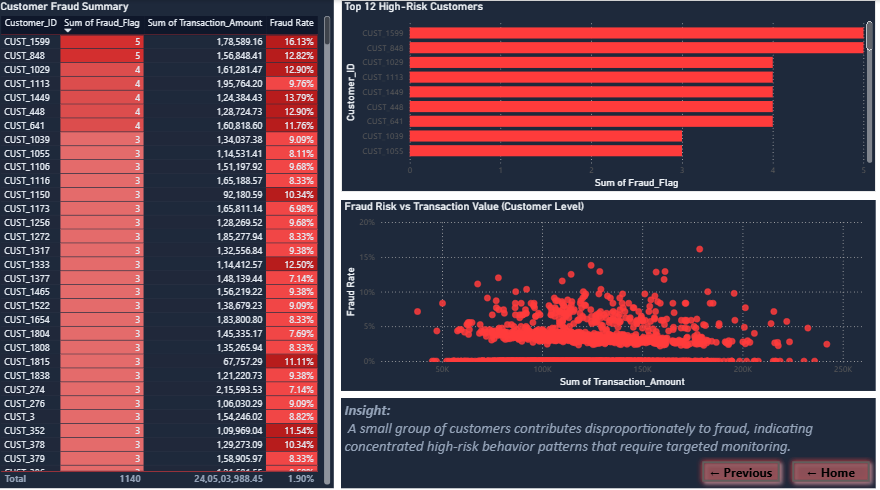

What the dashboard file says about the page in this screenshot:
{"tool":"powerbi","page":{"name":"Page 3","canvas":[1280,720],"ordinal":3},"visuals":[{"type":"tableEx","title":"Customer Fraud Summary","fields":{"Values":["credit_card_dataset_1.Customer_ID","Sum(credit_card_dataset_1.Fraud_Flag)","Sum(credit_card_dataset_1.Transaction_Amount)","credit_card_dataset_1.Fraud Rate"]},"box":[0,0,485,703.3],"z":0},{"type":"clusteredBarChart","title":"Top 12 High-Risk Customers","fields":{"Category":["credit_card_dataset_1.Customer_ID"],"Y":["Sum(credit_card_dataset_1.Fraud_Flag)"]},"box":[495.4,0,770.4,276.5],"z":1000},{"type":"scatterChart","title":"Fraud Risk vs Transaction Value (Customer Level)","fields":{"X":["Sum(credit_card_dataset_1.Transaction_Amount)"],"Y":["credit_card_dataset_1.Fraud Rate"],"Category":["credit_card_dataset_1.Customer_ID"]},"box":[495.4,288,770.4,275],"z":2000},{"type":"textbox","box":[495.4,573.1,770.4,129.6],"z":3000},{"type":"actionButton","box":[1006.6,655.2,129.6,47.5],"z":4000},{"type":"actionButton","box":[1136.2,655.2,129.6,47.5],"z":5000}]}

Visuals, with their boxes in screenshot pixels (x1, y1, x2, y2), scaled from the page's 1280x720 canvas onto the 880x490 screenshot:
"Customer Fraud Summary" tableEx: <box>0,0,333,479</box>
"Top 12 High-Risk Customers" clusteredBarChart: <box>341,0,870,188</box>
"Fraud Risk vs Transaction Value (Customer Level)" scatterChart: <box>341,196,870,383</box>
textbox: <box>341,390,870,478</box>
actionButton: <box>692,446,781,478</box>
actionButton: <box>781,446,870,478</box>
